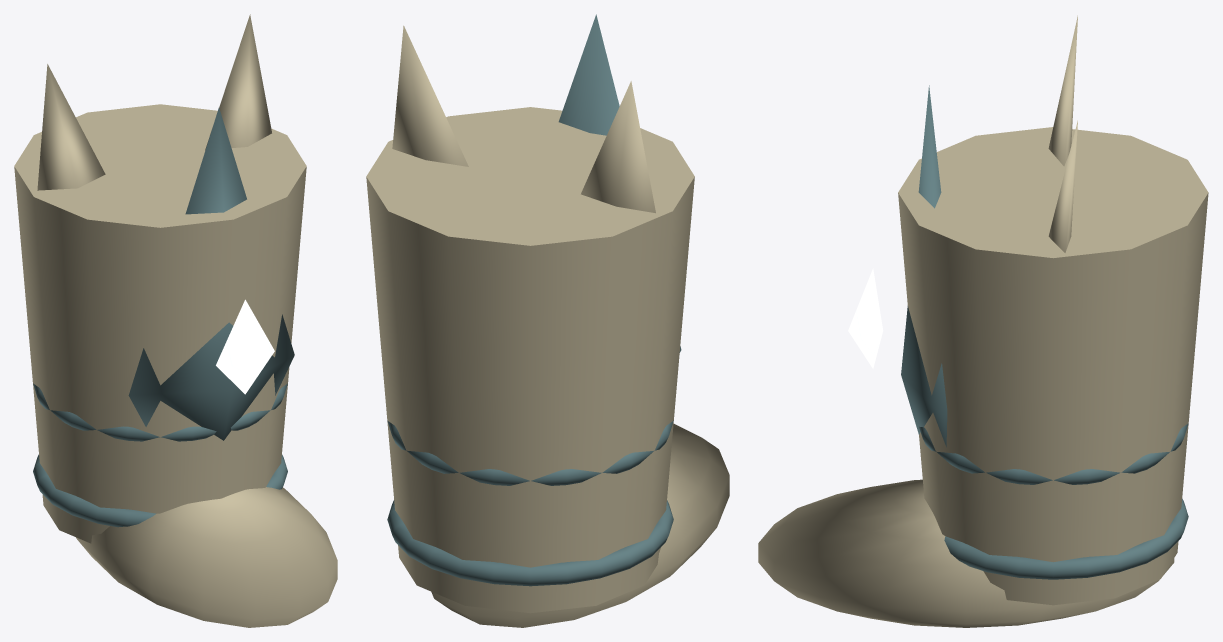
Rendered from boss_gale_nomad_boots_1.glb.
3 views of the same model, side by side, from view 1: azimuth 30°, elevation 25°; view 2: azimuth 150°, elevation 25°; view 3: azimuth 270°, elevation 25° (orthographic). The views are drawn at different scales.
Visible parts, largest first — view 1: Boss_gale_nomad_0, Boss_gale_nomad_1, Boss_gale_nomad_2; view 2: Boss_gale_nomad_0, Boss_gale_nomad_1; view 3: Boss_gale_nomad_0, Boss_gale_nomad_1, Boss_gale_nomad_2.
Boxes of the visible parts, bbox=[...] form: Boss_gale_nomad_0: bbox=[14, 14, 337, 627]; Boss_gale_nomad_1: bbox=[33, 108, 294, 527]; Boss_gale_nomad_2: bbox=[216, 299, 274, 394]; Boss_gale_nomad_0: bbox=[366, 25, 729, 627]; Boss_gale_nomad_1: bbox=[387, 14, 681, 586]; Boss_gale_nomad_0: bbox=[758, 15, 1208, 627]; Boss_gale_nomad_1: bbox=[901, 85, 1188, 579]; Boss_gale_nomad_2: bbox=[848, 268, 883, 368].
Bounding box in the file's own units: 0.25 × 0.482 × 0.3624.
